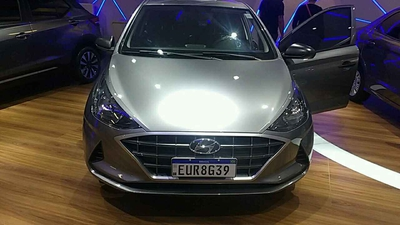Frontal Veiculo: (81, 1, 314, 202)
